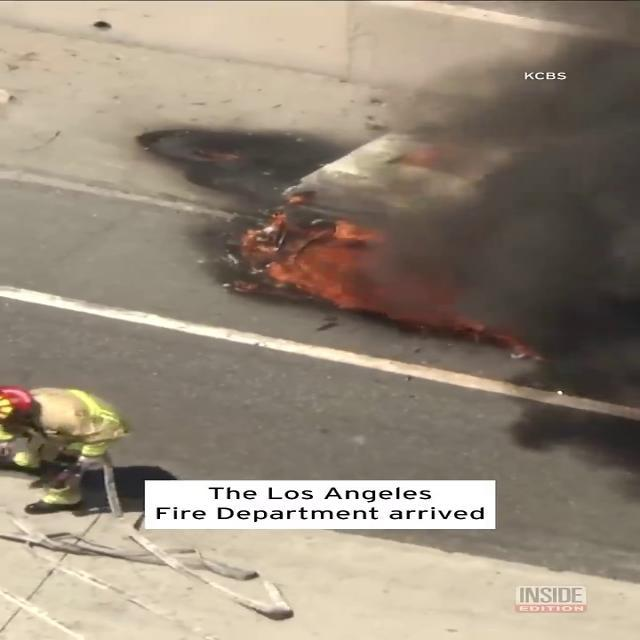Fire: (228, 206, 378, 308)
Smoke: (367, 0, 640, 352)
